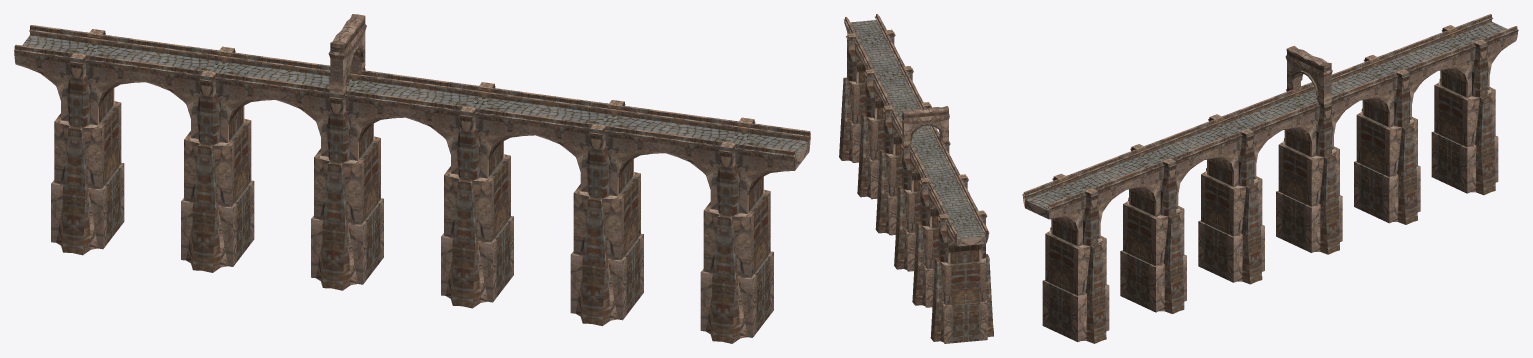
Rendered from roman_bridge.glb.
3 views of the same model, side by side, from view 1: azimuth 30°, elevation 25°; view 2: azimuth 150°, elevation 25°; view 3: azimuth 270°, elevation 25° (orthographic). The views are drawn at different scales.
Parts seen in each view (by area): view 1: arches, gate; view 2: arches, gate; view 3: arches, gate.
Boxes of the visible parts, bbox=[...] form: arches: bbox=[14, 25, 810, 343]; gate: bbox=[328, 14, 366, 94]; arches: bbox=[839, 14, 993, 343]; gate: bbox=[901, 106, 949, 145]; arches: bbox=[1022, 14, 1518, 343]; gate: bbox=[1285, 46, 1332, 104].
Bounding box in the file's own units: 4.29 × 1.93 × 4.68.
Materials: 3 (3 with a texture image).
